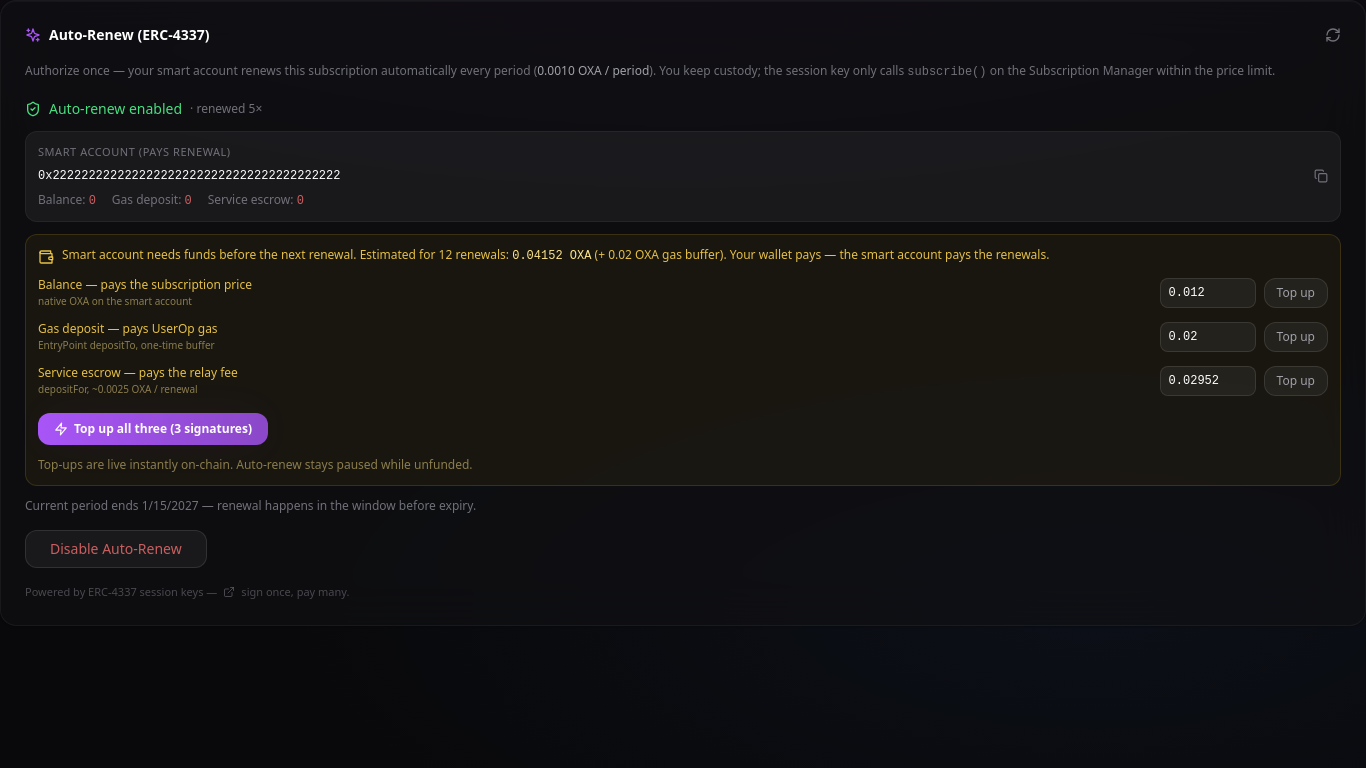
Test: 105/106/107 — disable / refresh / copy › disable → window.confirm 通过 → 本地停用 + Re-enable 入口
The image size is (1366, 768).
Click the button "Disable Auto-Renew".
click(116, 549)  # box [25,530,207,568]
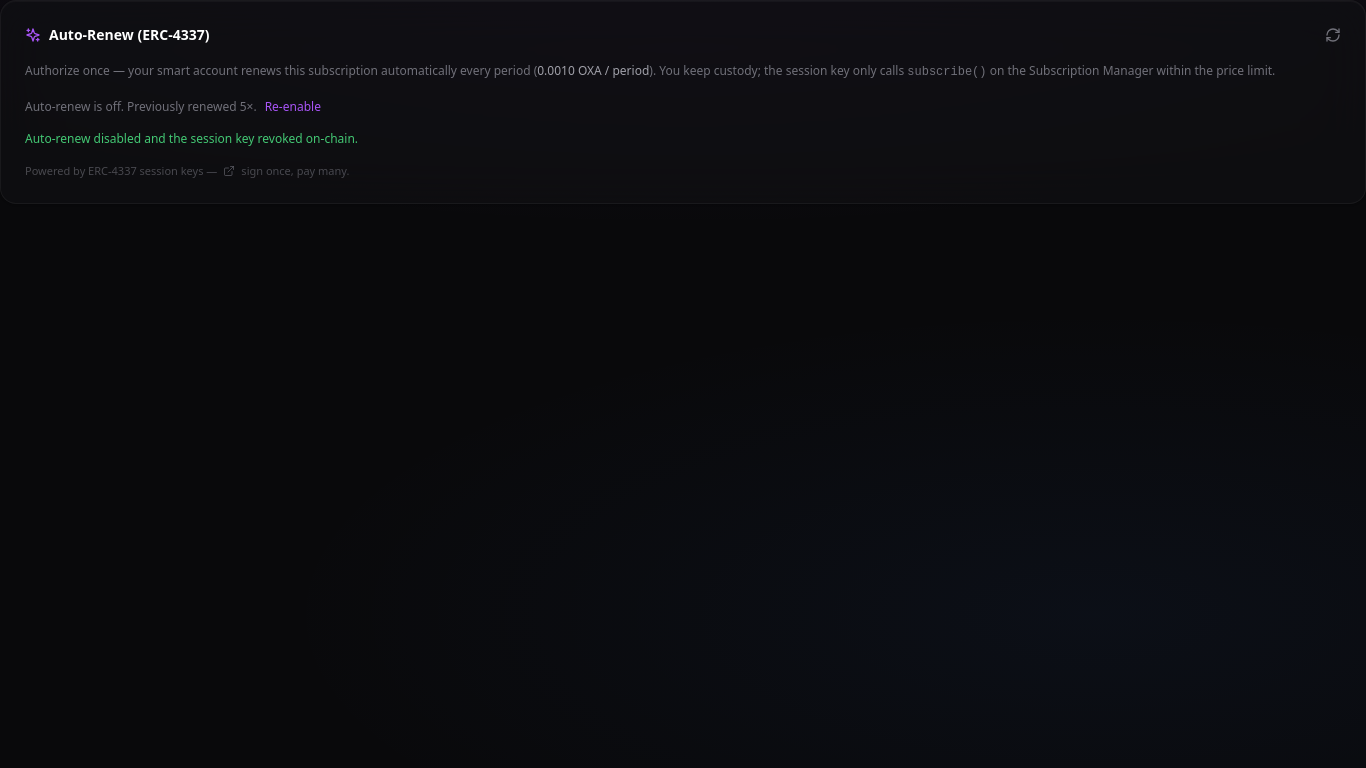
Now the text "Auto-renew is off. Previously renewed 5×. Re-enable" is shown, box [25,98,321,114]
Now the button "Re-enable" is shown, box [265,98,321,114]
